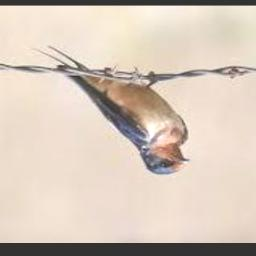Swallow: (32, 47, 192, 174)
